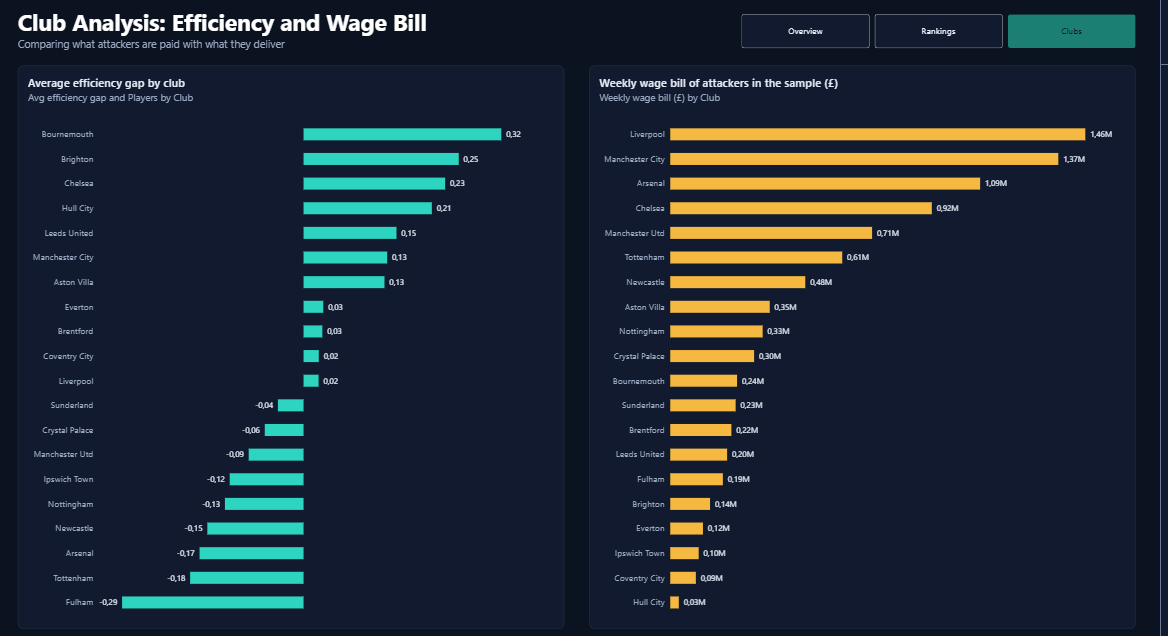

This screenshot's page, from the dashboard's own definition file:
{"tool":"powerbi","page":{"name":"Clubs","canvas":[1920,1080],"ordinal":2},"visuals":[{"type":"clusteredBarChart","title":"Average efficiency gap by club","fields":{"Category":["pbi_attackers.squad"],"Y":["pbi_attackers.Avg Efficiency Gap"]},"box":[40,112,900,928],"z":0},{"type":"clusteredBarChart","title":"Weekly wage bill of attackers in the sample (£)","fields":{"Category":["pbi_attackers.squad"],"Y":["pbi_attackers.Weekly Wage Bill"]},"box":[980,112,900,928],"z":1},{"type":"textbox","box":[40,14,1150,56],"z":20},{"type":"textbox","box":[40,64,1150,34],"z":21},{"type":"pageNavigator","box":[1230,26,650,56],"z":22}]}

Visuals, with their boxes on the page's 1920x1080 design canvas (x1, y1, x2, y2). These are canvas units, not pixel positions in the 1168x636 screenshot, which may show the page scaled, cropped or inside an application window:
"Average efficiency gap by club" clusteredBarChart: bbox=[40, 112, 940, 1040]
"Weekly wage bill of attackers in the sample (£)" clusteredBarChart: bbox=[980, 112, 1880, 1040]
textbox: bbox=[40, 14, 1190, 70]
textbox: bbox=[40, 64, 1190, 98]
pageNavigator: bbox=[1230, 26, 1880, 82]
